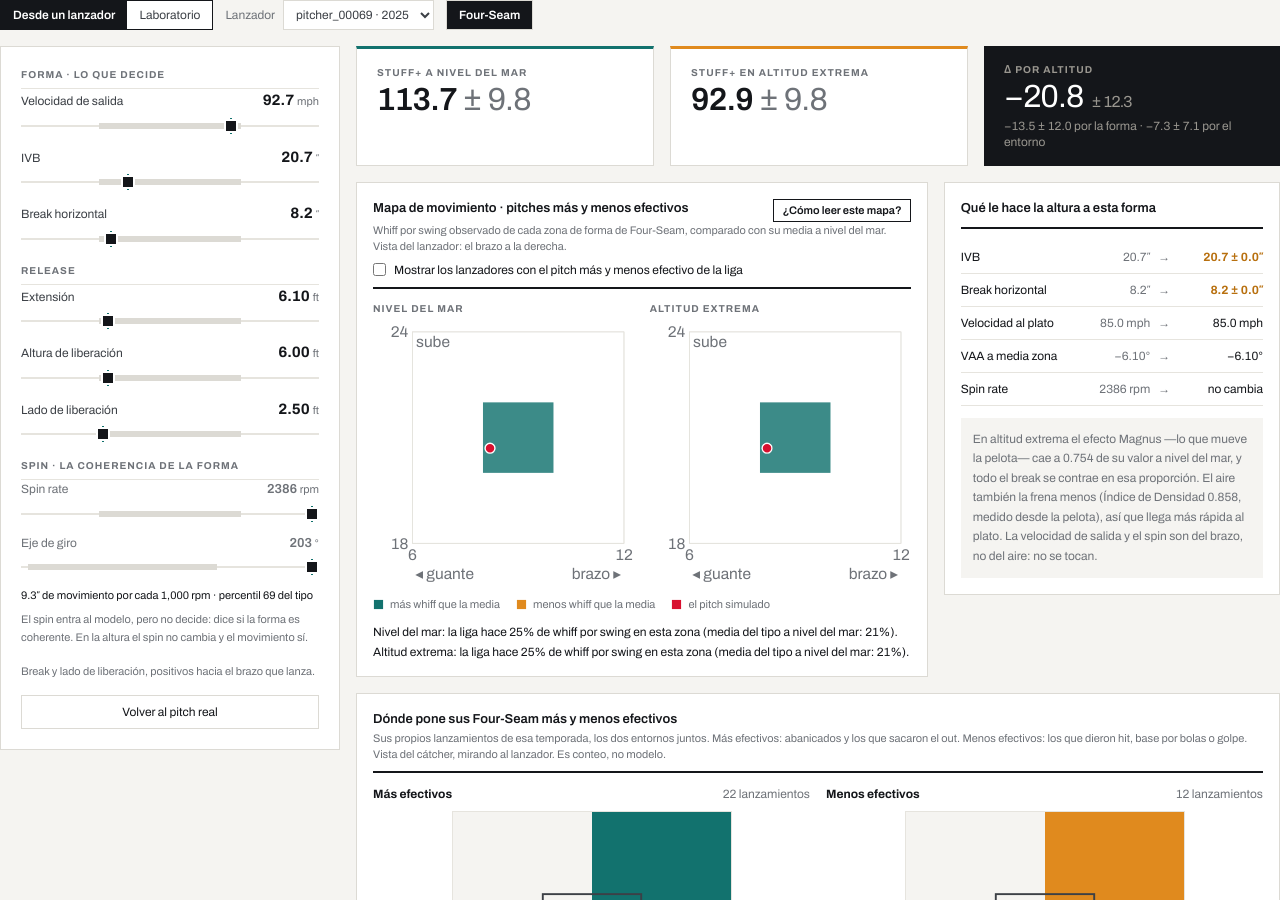
Test: el Simulador › la ayuda del mapa abre una explicacion y se cierra
What coordinates should you click on to do the following:
click the button "¿Cómo leer este mapa?"
I would click on:
 (842, 210)
Its box is [773,199,911,222].
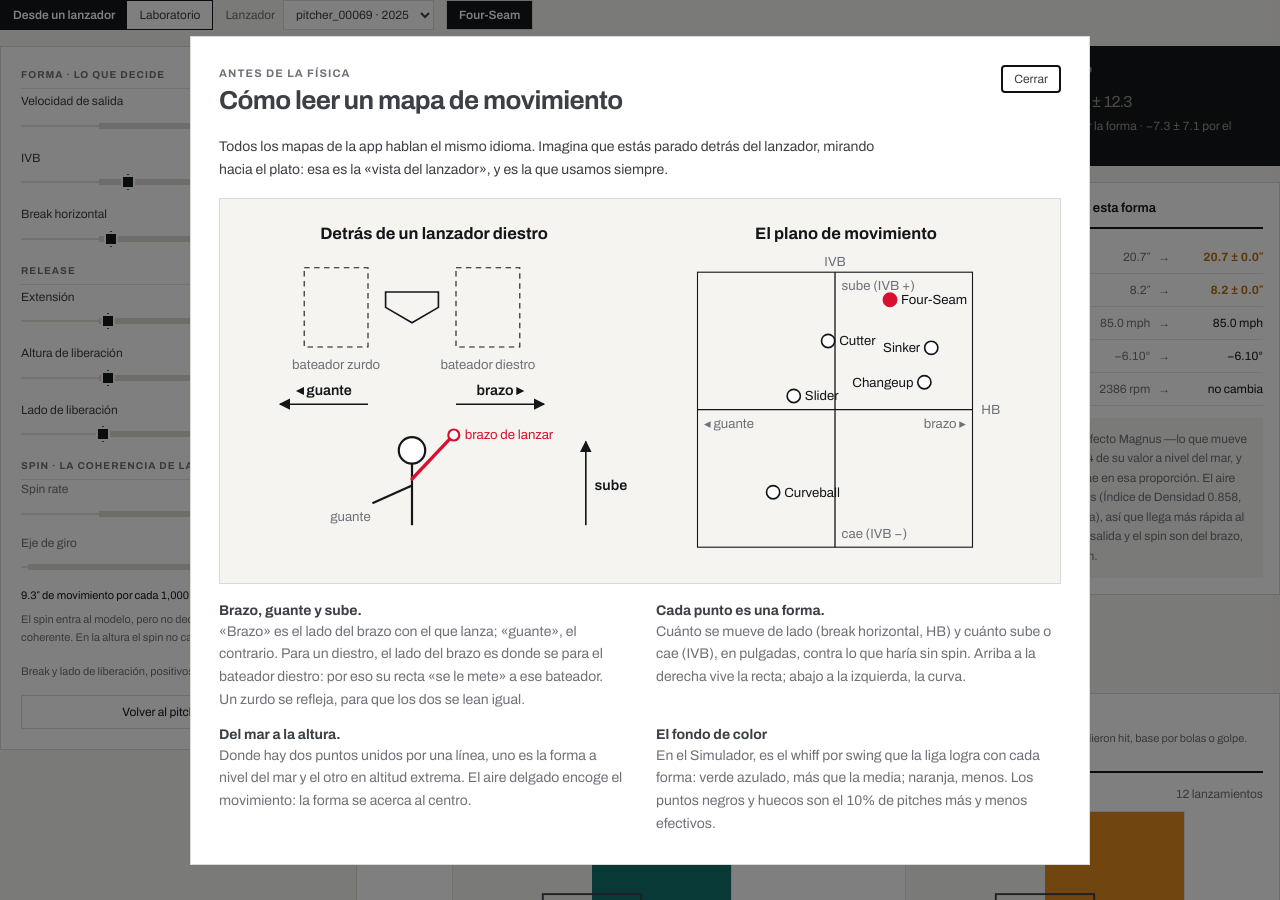
Result: the dialog "Cómo leer un mapa de movimiento" is shown
What coordinates should you click on to do the following:
click the button "Cerrar"
I would click on:
 (1031, 78)
Its box is [1001,64,1061,92].
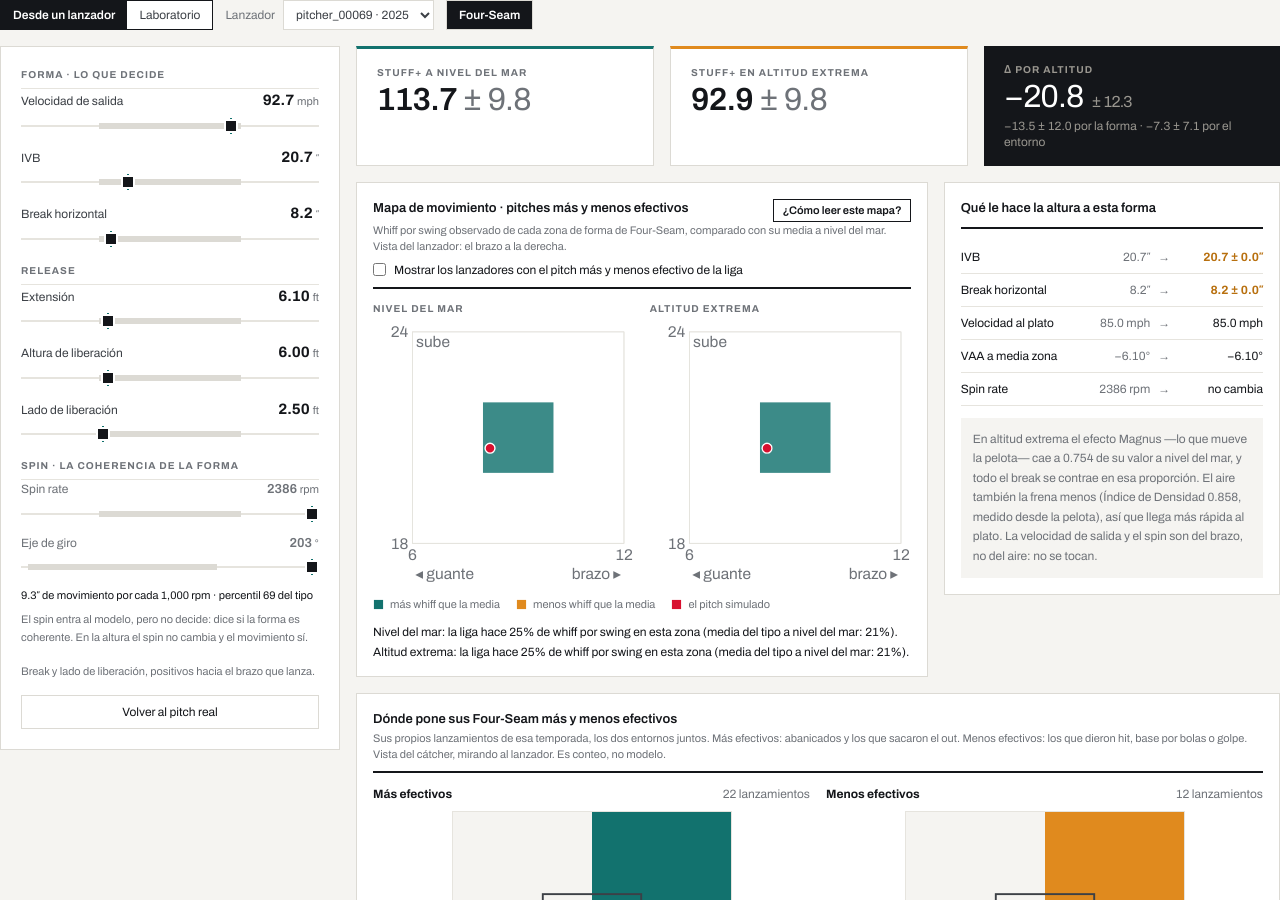
Result: the dialog is gone
